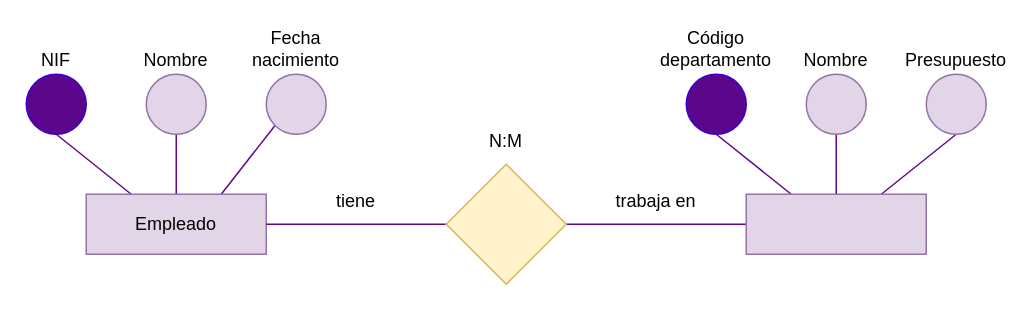
Image size: 1032x311. Some labels were removed from this diagram. Here are the shapes that lost their labels. From the top down, the centre of each, then its label:
[505,223]: trabaja
[835,223]: Departamento
